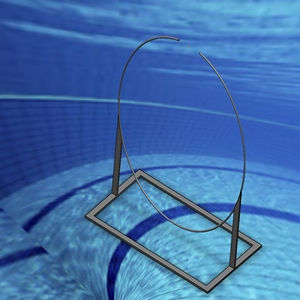circle: (84, 33, 259, 293)
